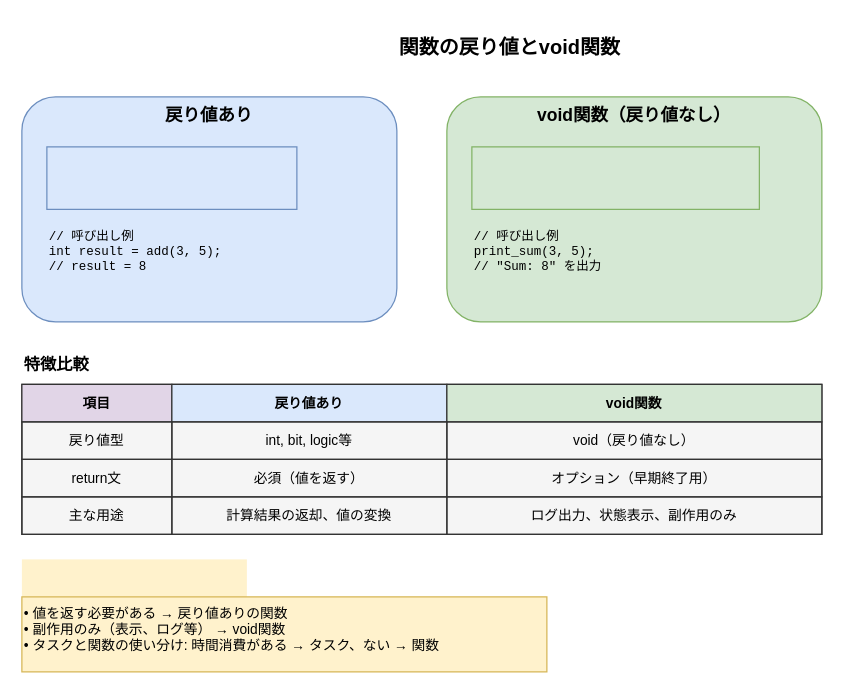
Image size: 844x694. Some labels were removed from this diagram. Here are the shapes that lost their labels. From the top down, the box of each, then its label:
(46, 146, 297, 209): function int add(int a, int b); return a + b; endfunction
(471, 146, 759, 209): function void print_sum(int a, int b); $display("Sum: %0d", a + b); endfunction
(21, 559, 246, 596): 使い分けのポイント
